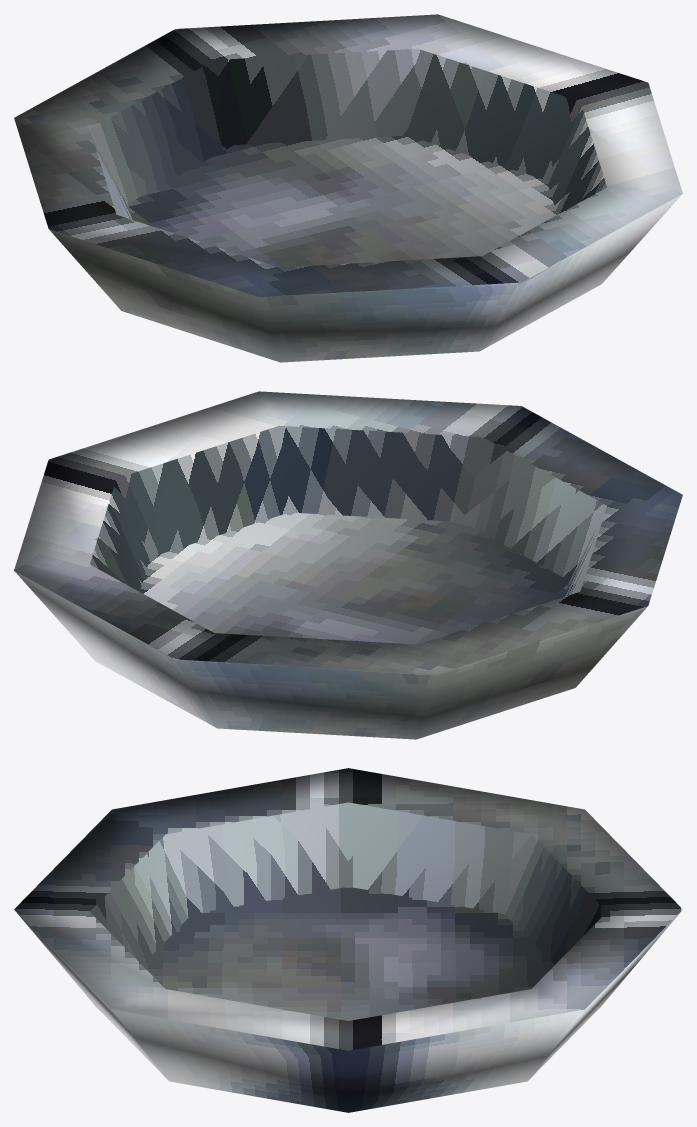
Rendered from Ashtray.glb.
3 views of the same model, one above another, from view 1: azimuth 30°, elevation 25°; view 2: azimuth 150°, elevation 25°; view 3: azimuth 270°, elevation 25° (orthographic). The views are drawn at different scales.
Visible parts, largest first — view 1: cyl2; view 2: cyl2; view 3: cyl2.
Boxes of the visible parts, left/top/right/bottom form: cyl2: left=14, top=14, right=682, bottom=362; cyl2: left=14, top=391, right=682, bottom=739; cyl2: left=14, top=768, right=682, bottom=1112.
Bounding box in the file's own units: 12.32 × 1.96 × 12.32.
1 material, 1 textured.
